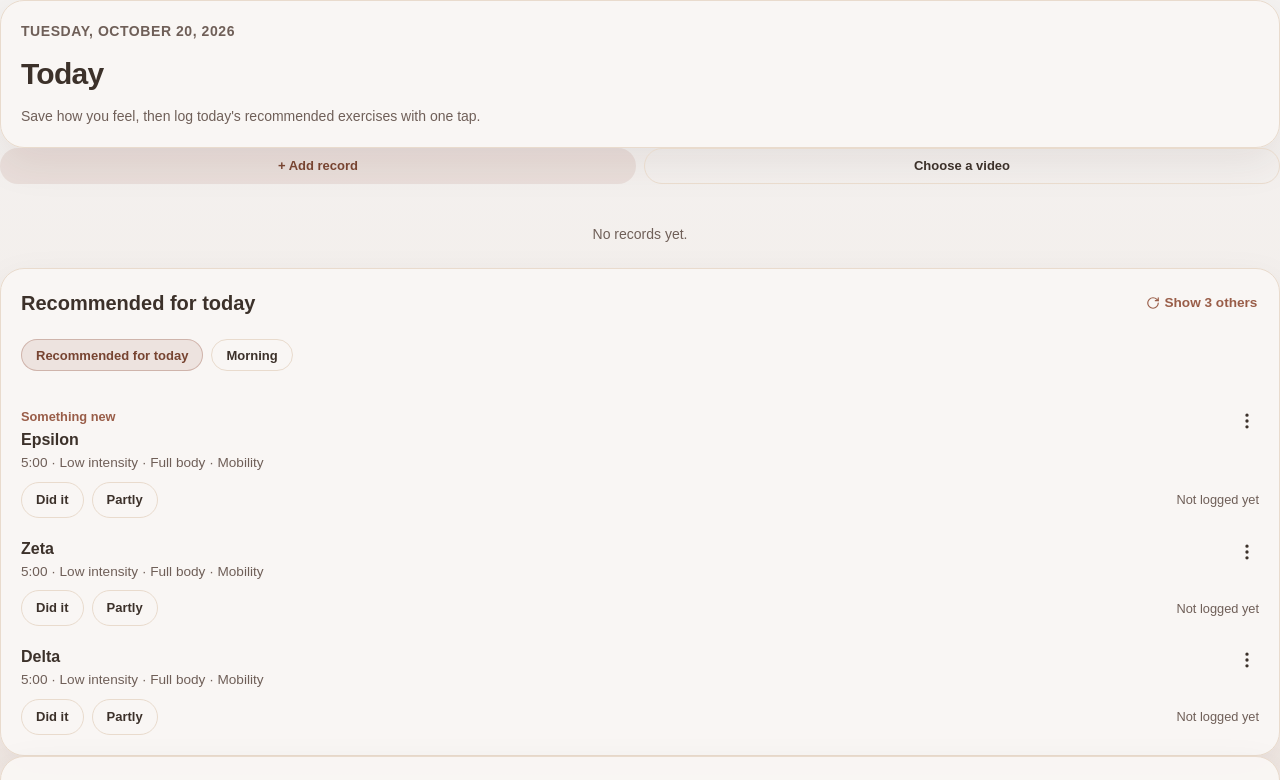
removing a video from the shown set makes its card disappear
Click the button "Morning".
click(252, 355)  # box 211,339 -> 293,371
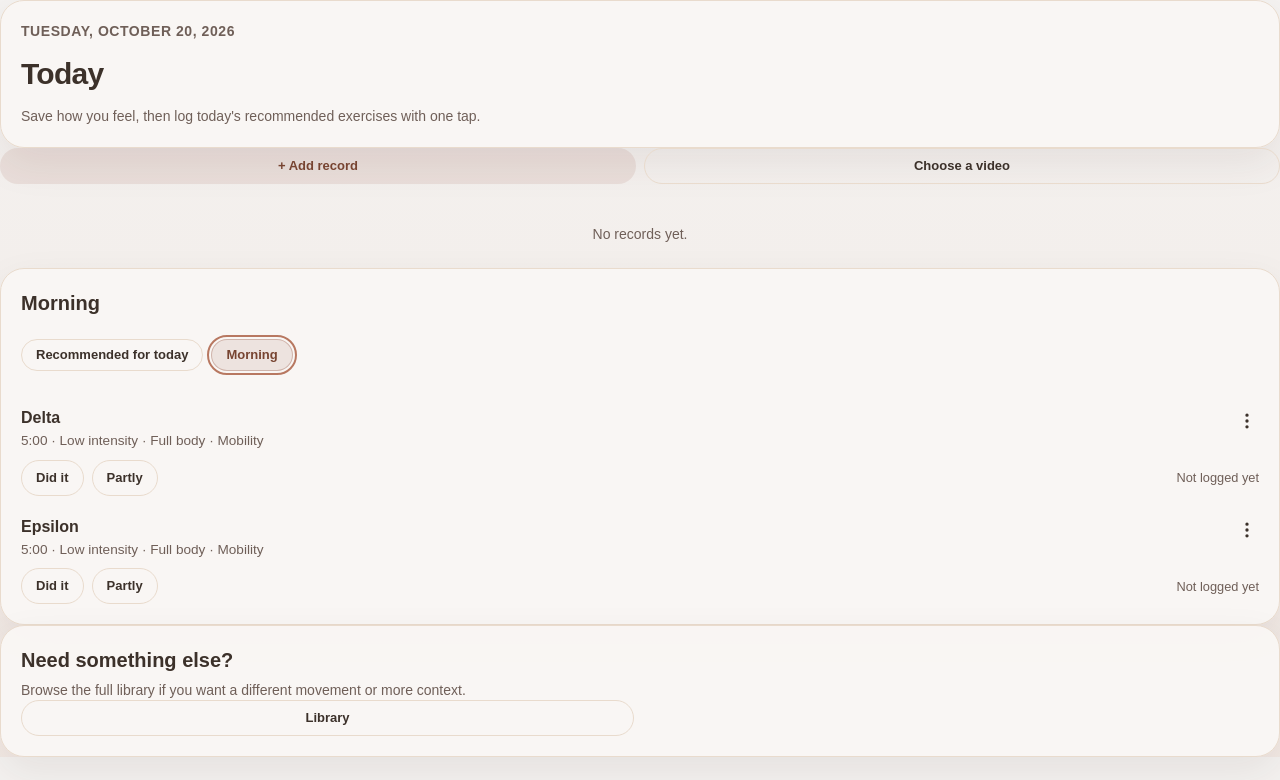
Click the button named "Add Delta to a set".
click(1247, 421)  # box 1229,403 -> 1265,439
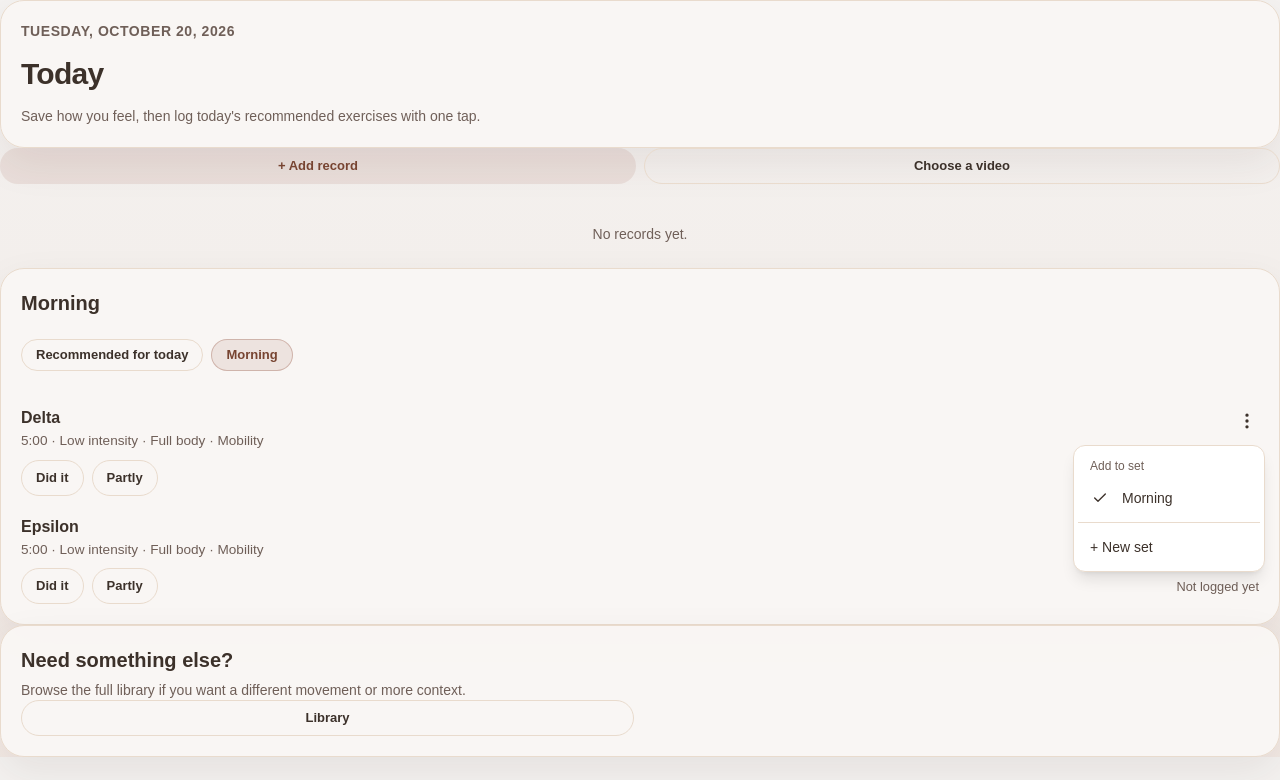
Click the menu item "Morning".
click(1132, 498)  # box 1092,490 -> 1173,506
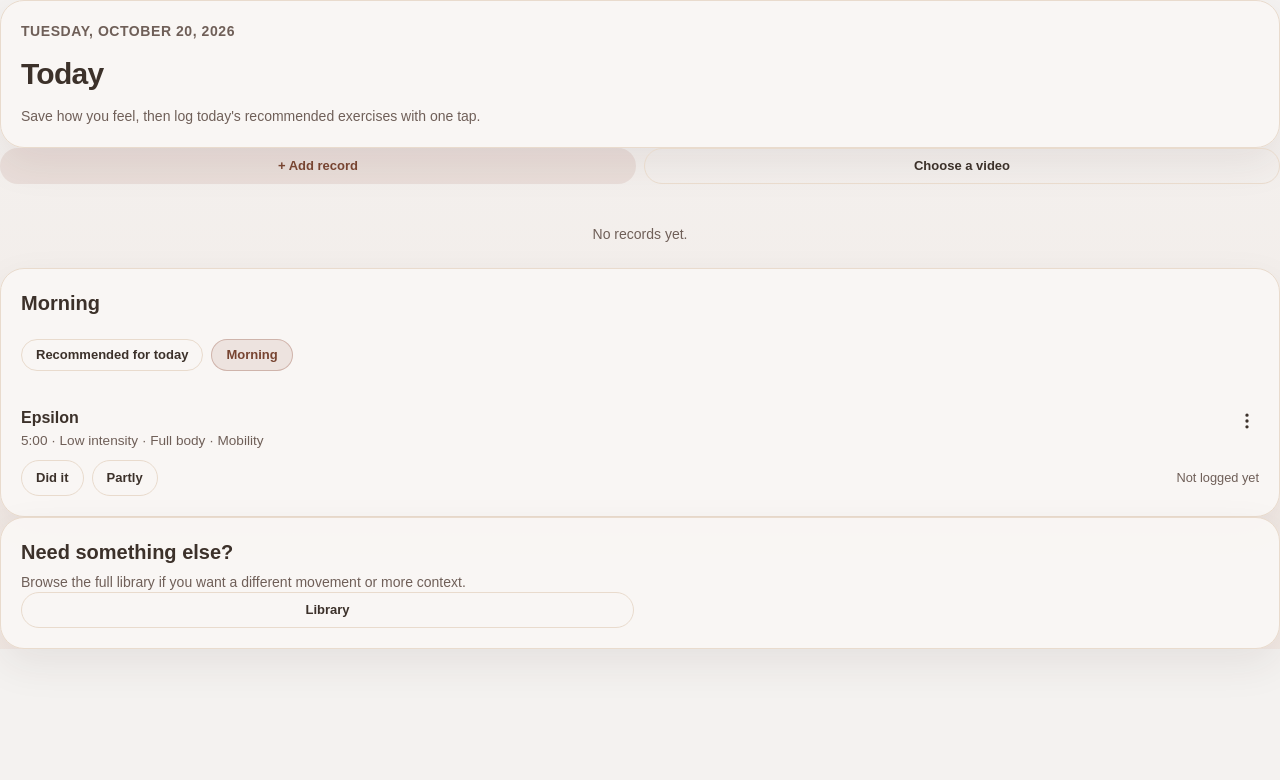
Now the headings read "Epsilon", in this order, box 21,409 -> 79,426
